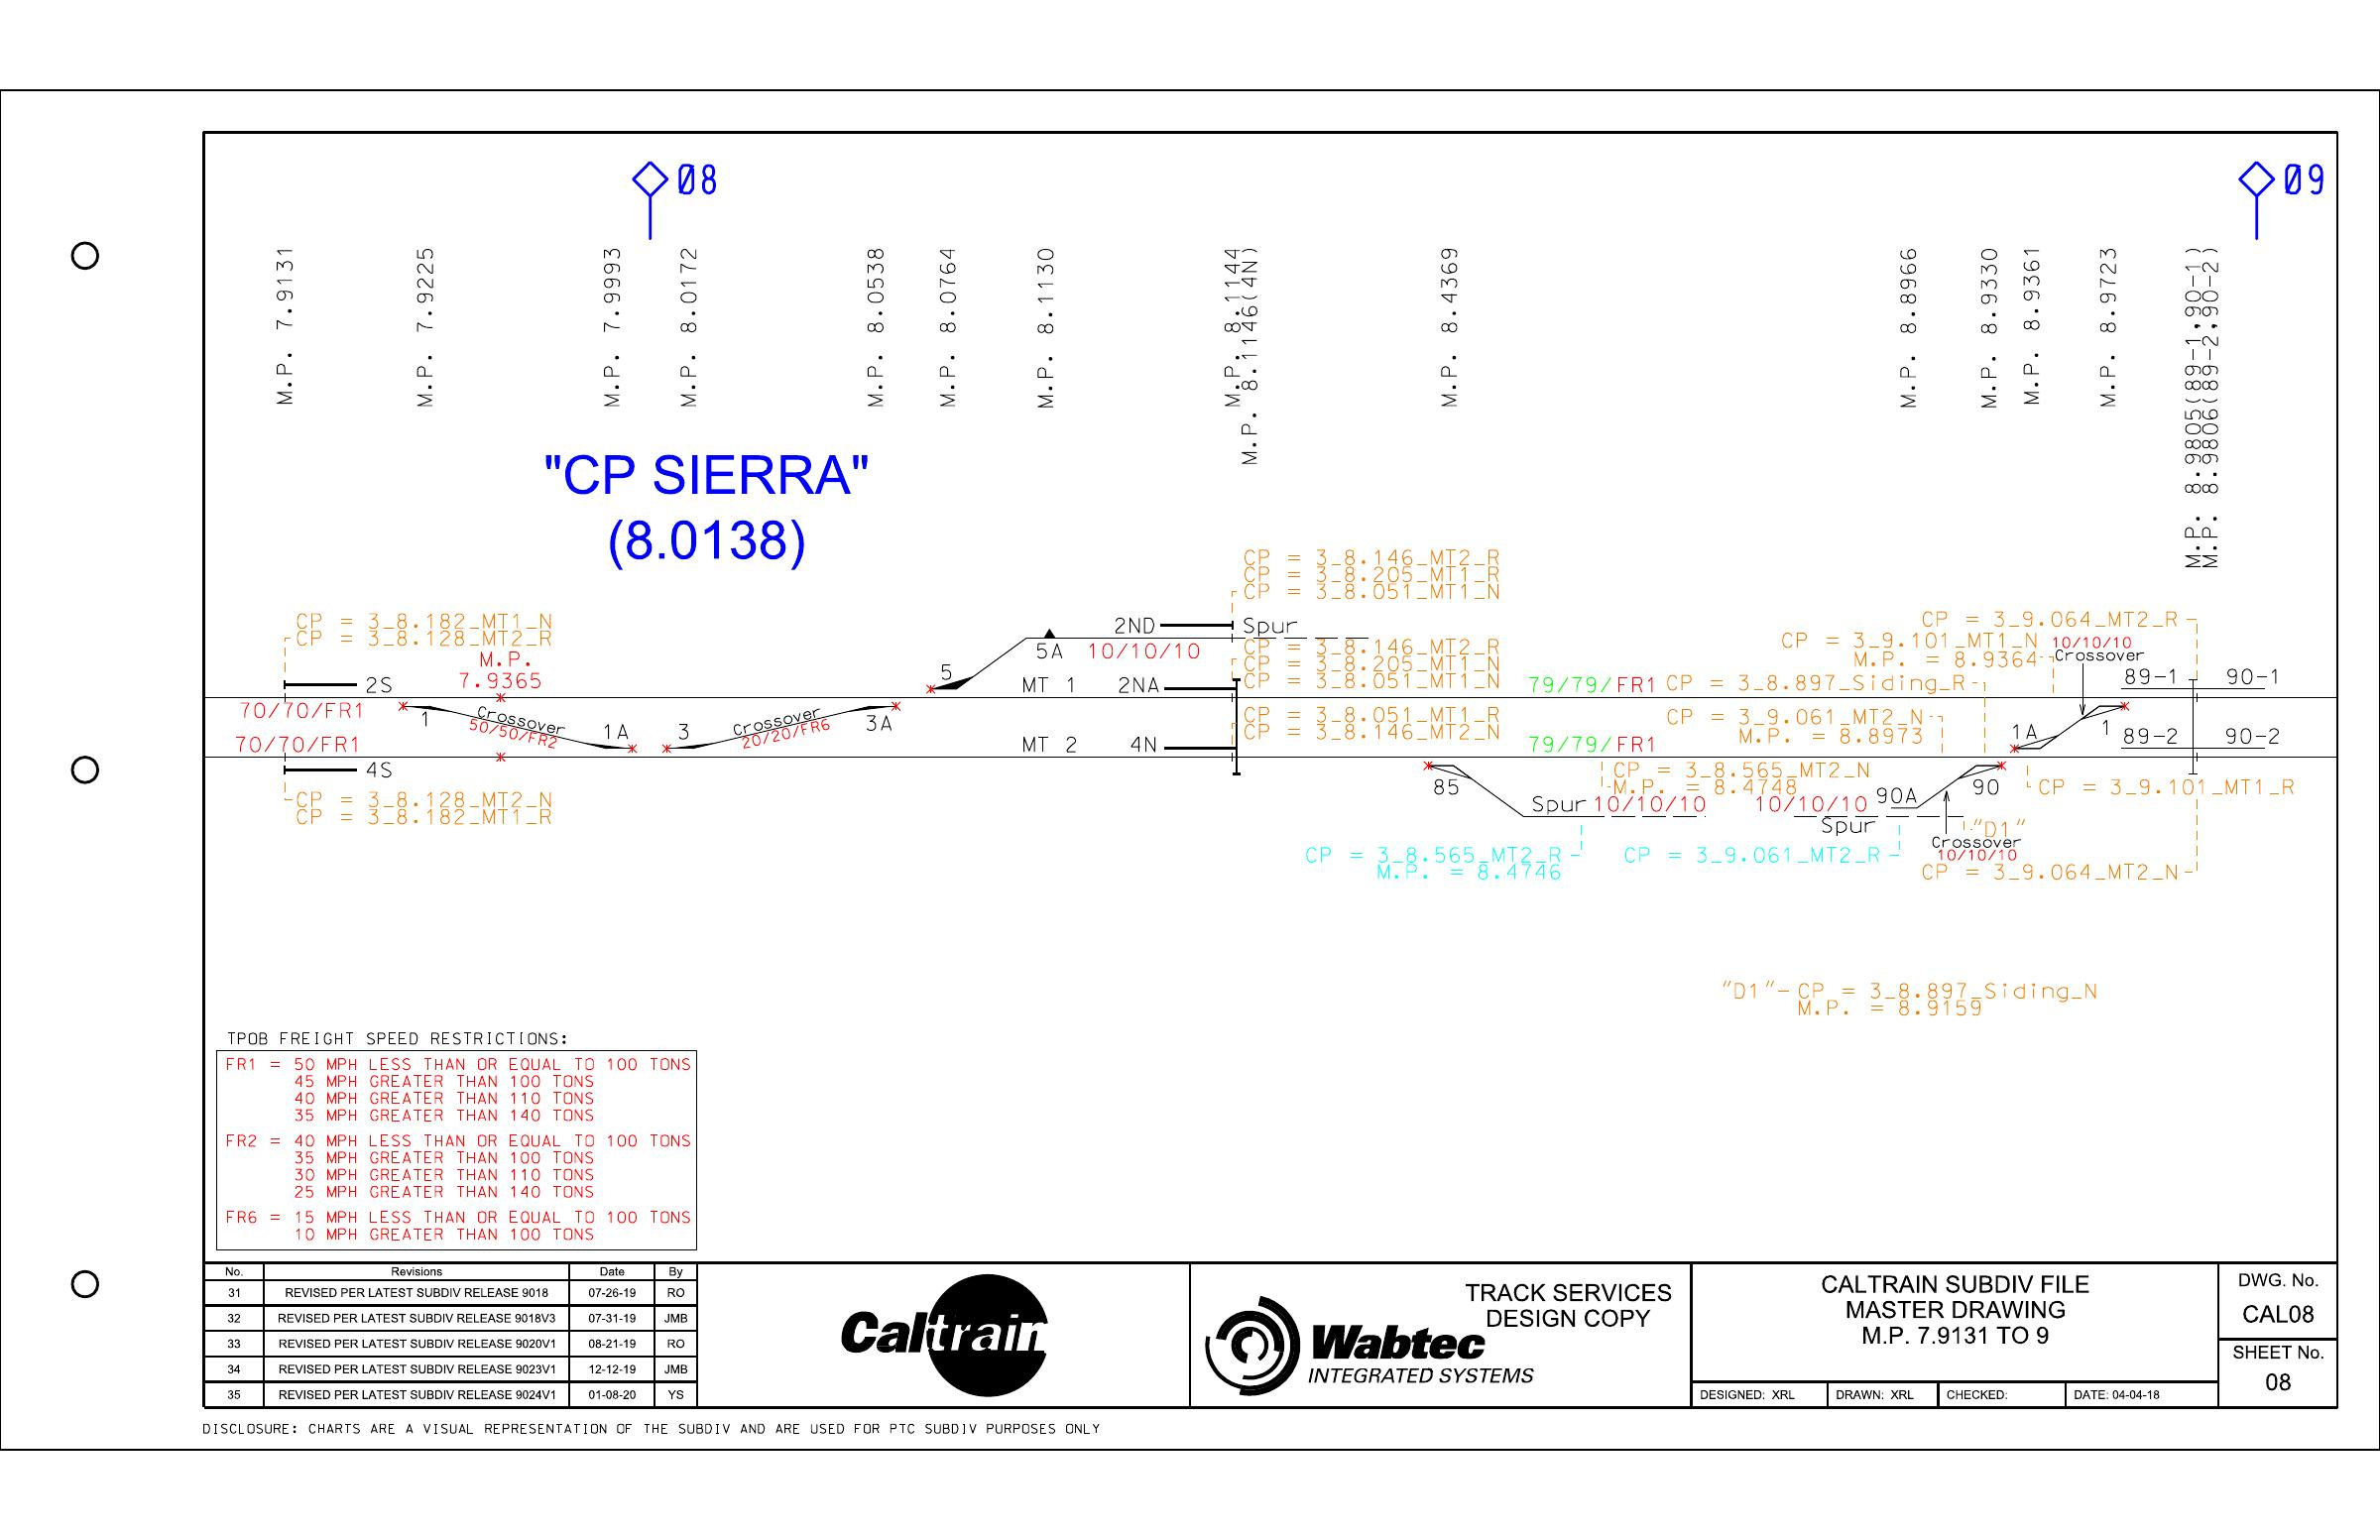elect-switch: (2073, 680, 2135, 735), (1955, 749, 2014, 806), (1419, 742, 1473, 803), (2007, 713, 2063, 767)
milepost: (2174, 231, 2205, 595), (2201, 232, 2233, 584), (1886, 225, 1929, 440), (2082, 224, 2123, 447), (852, 229, 895, 430), (1969, 229, 2007, 447), (1027, 229, 1067, 437), (2011, 225, 2047, 447), (590, 238, 631, 425), (668, 238, 708, 432), (925, 232, 963, 435), (1431, 229, 1469, 432), (262, 236, 300, 427), (404, 238, 439, 447), (1209, 229, 1240, 451), (1237, 232, 1265, 479)
signal: (1117, 721, 1242, 765), (1112, 668, 1249, 702), (271, 671, 401, 708), (1108, 607, 1239, 640), (274, 749, 401, 782), (2191, 721, 2297, 756), (2113, 720, 2198, 758), (2113, 664, 2201, 701), (2184, 666, 2292, 695)
switch: (836, 687, 912, 741), (656, 718, 716, 784), (919, 650, 978, 716), (592, 713, 645, 782), (397, 687, 451, 749)
